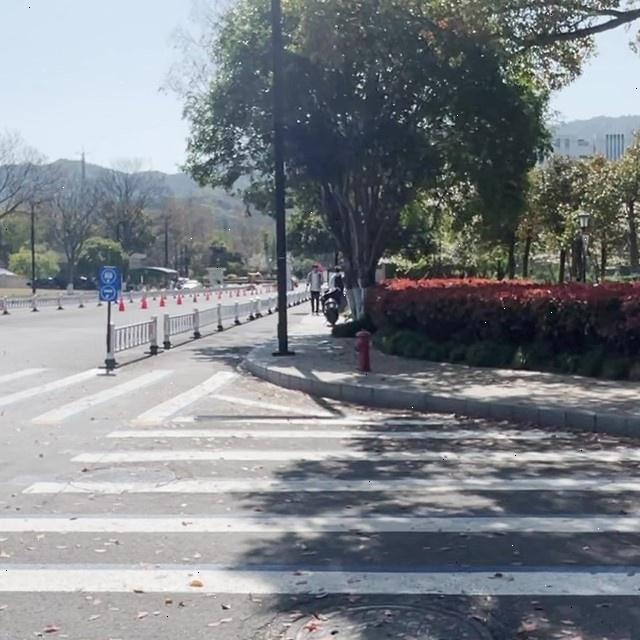curb: (241, 352, 639, 438)
